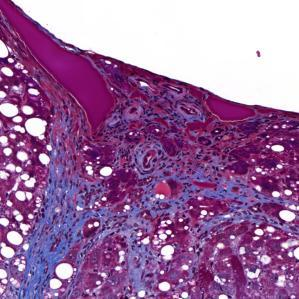fibrosis: (42, 143, 120, 249)
